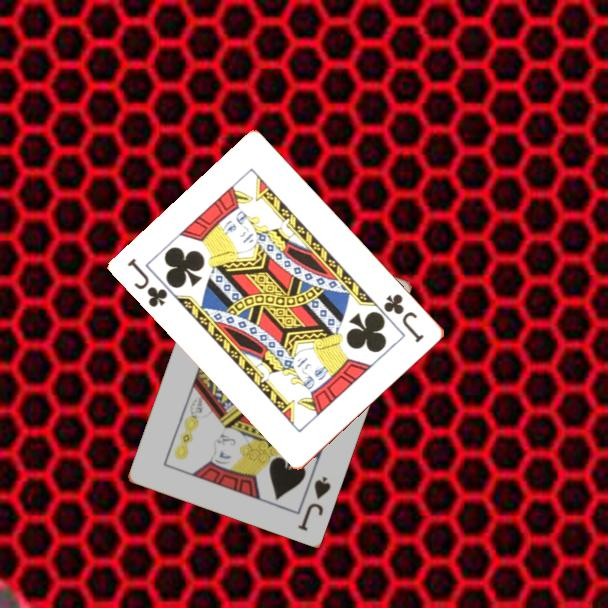c11: (380, 290, 427, 346), (124, 254, 171, 310)
s11: (294, 473, 334, 534)
